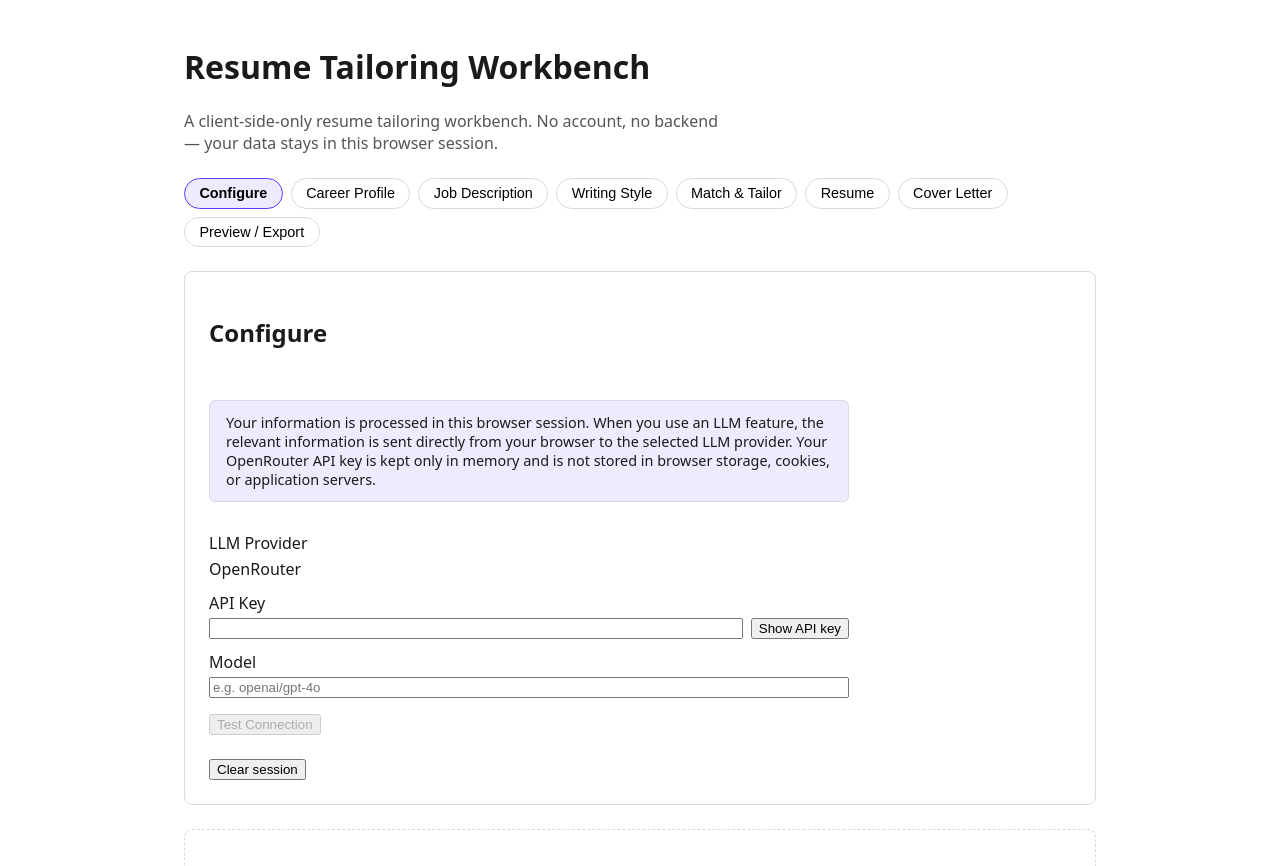
Test: Error handling and recovery (Stage 15) › Career Profile generation: an authentication failure shows Retry and Update API Key, and never leaks the API key
Click the button "Configure" at (233, 193), box [184, 178, 283, 209]
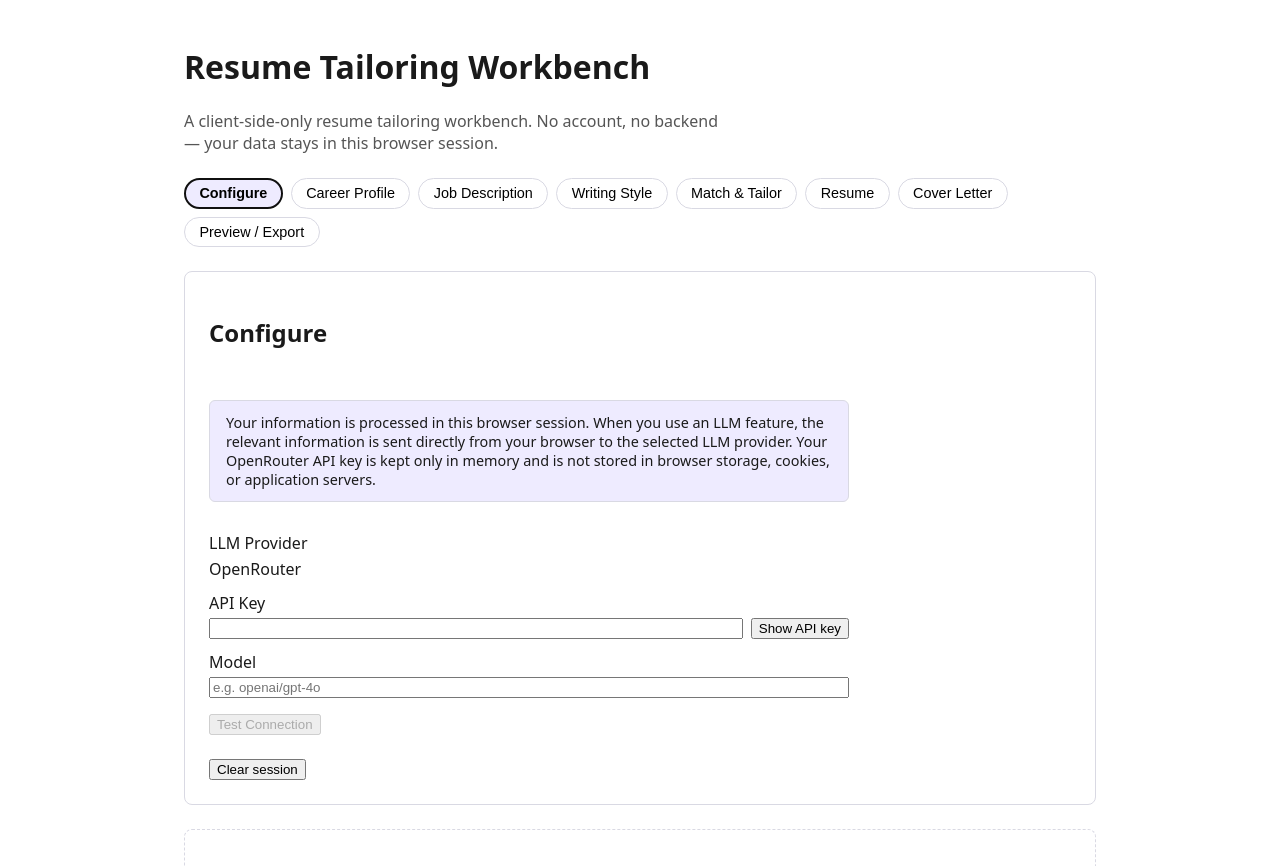
Type "sk-test-super-secret-key-value" into the password field labelled "API Key" at (476, 628), box [209, 618, 743, 639]
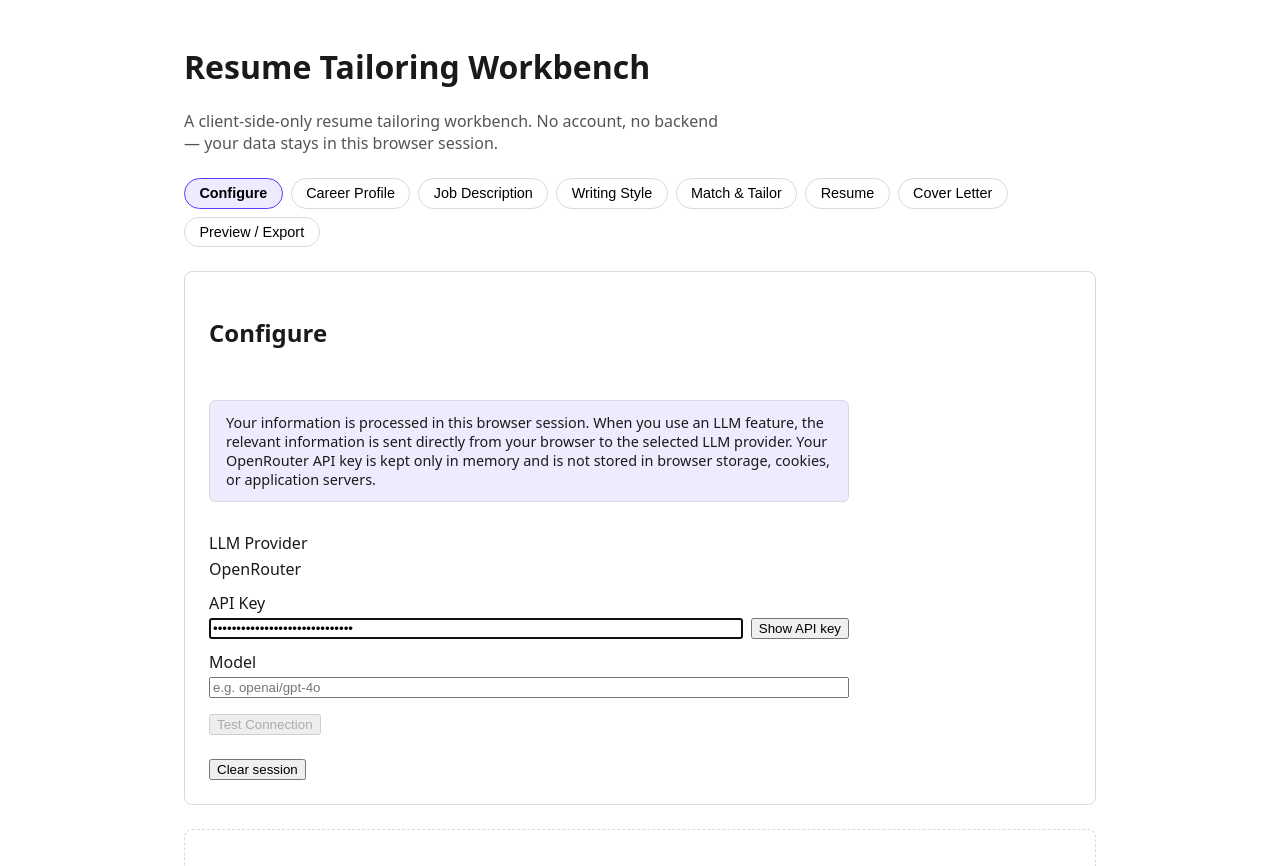
Type "openai/gpt-4o" into the field labelled "Model" at (529, 688), box [209, 677, 849, 698]
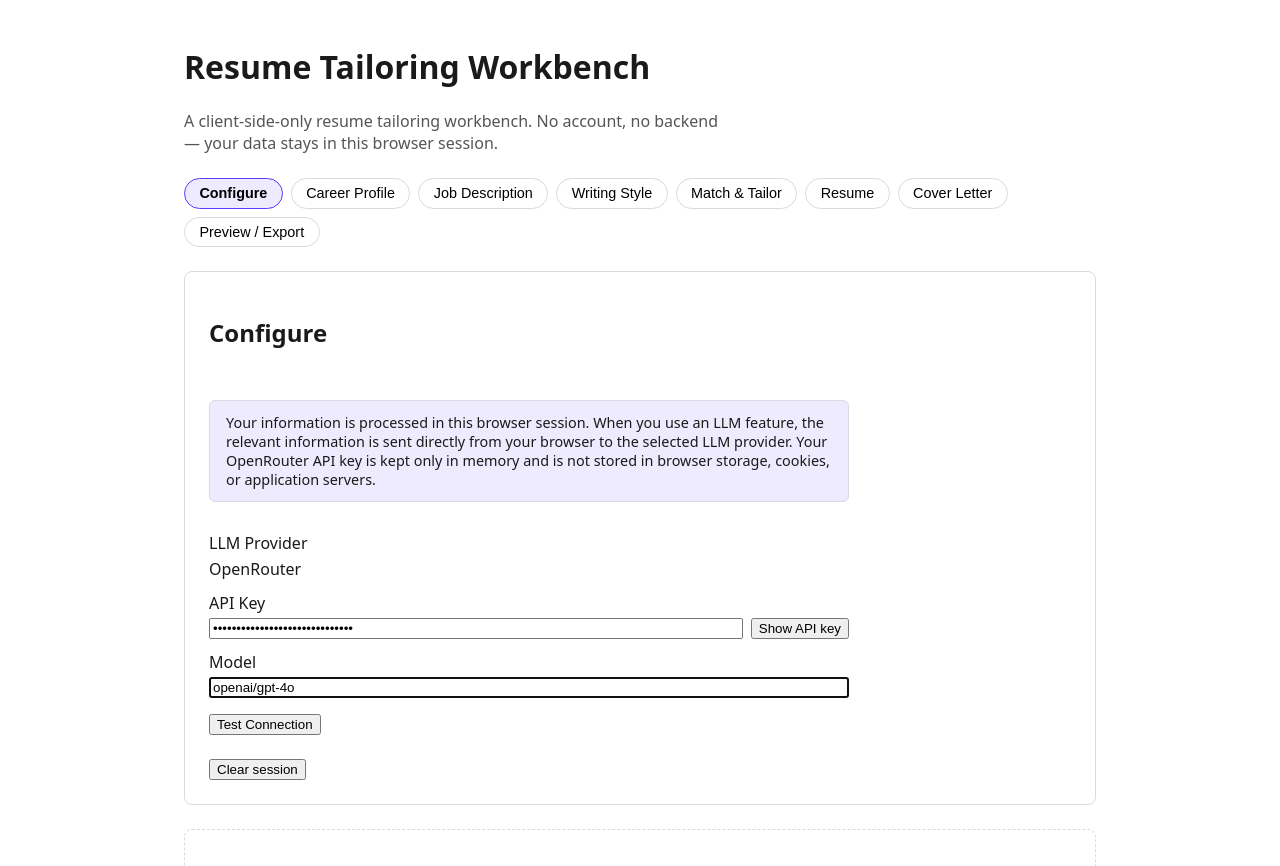
Click the button "Career Profile" at (350, 193), box [291, 178, 410, 209]
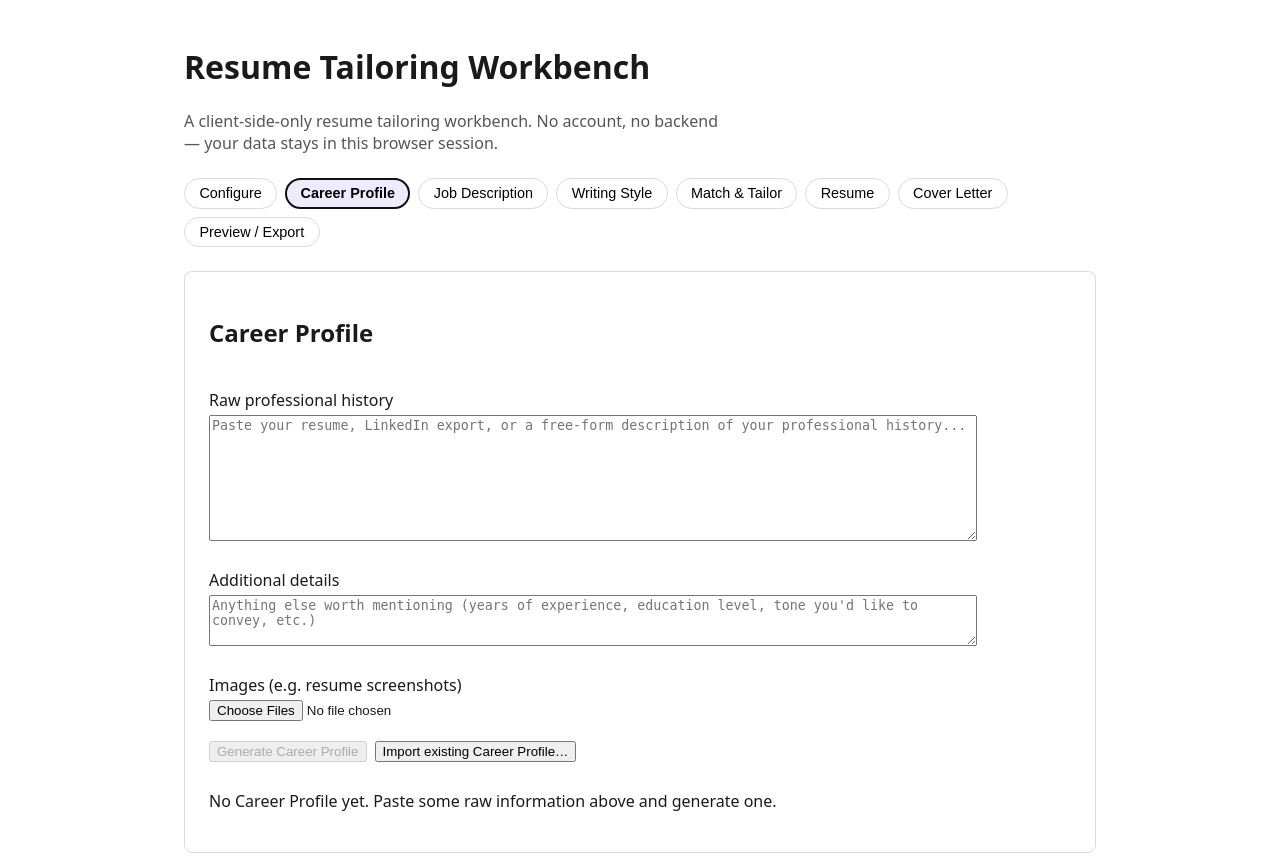
Type "Some history." into the text box labelled "Raw professional history" at (593, 478), box [209, 415, 977, 541]
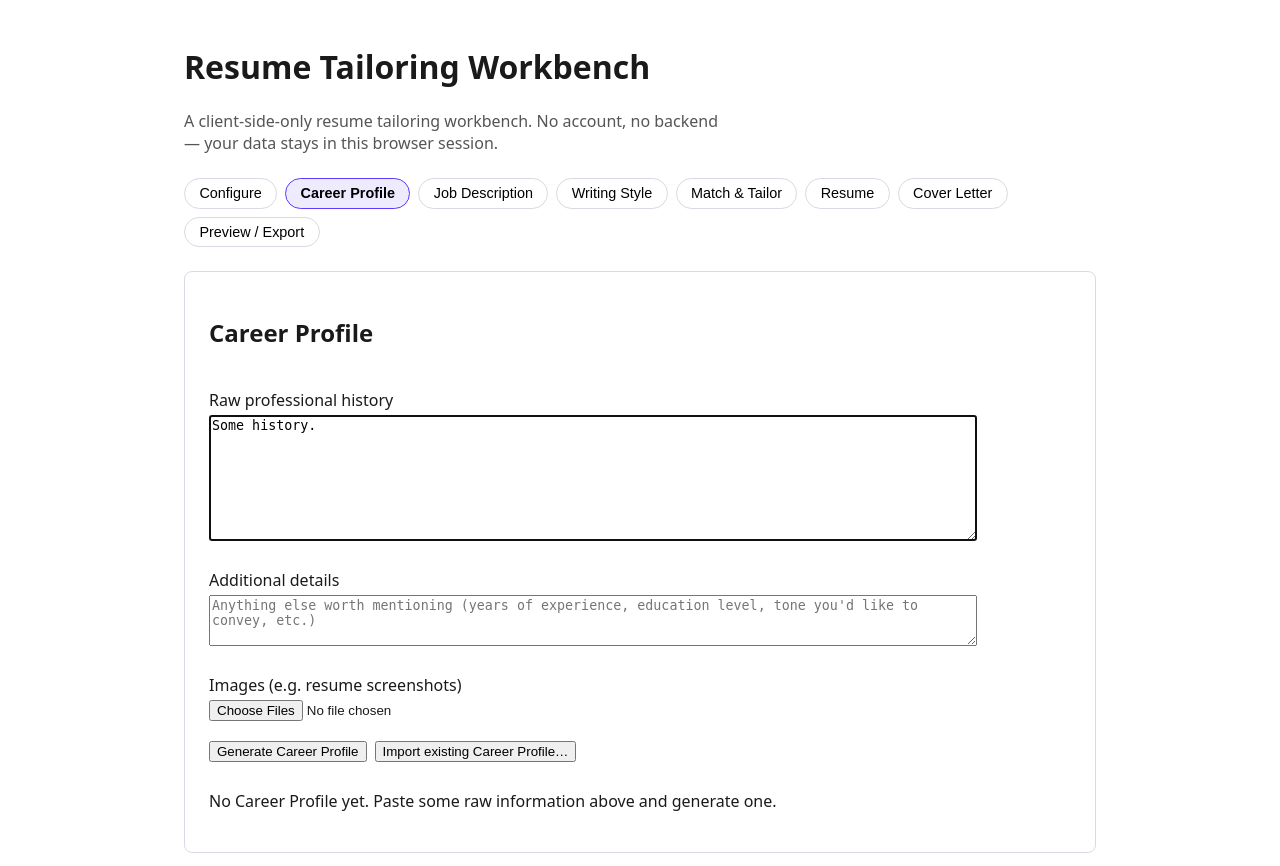
Click the button "Generate Career Profile" at (288, 752), box [209, 741, 366, 762]
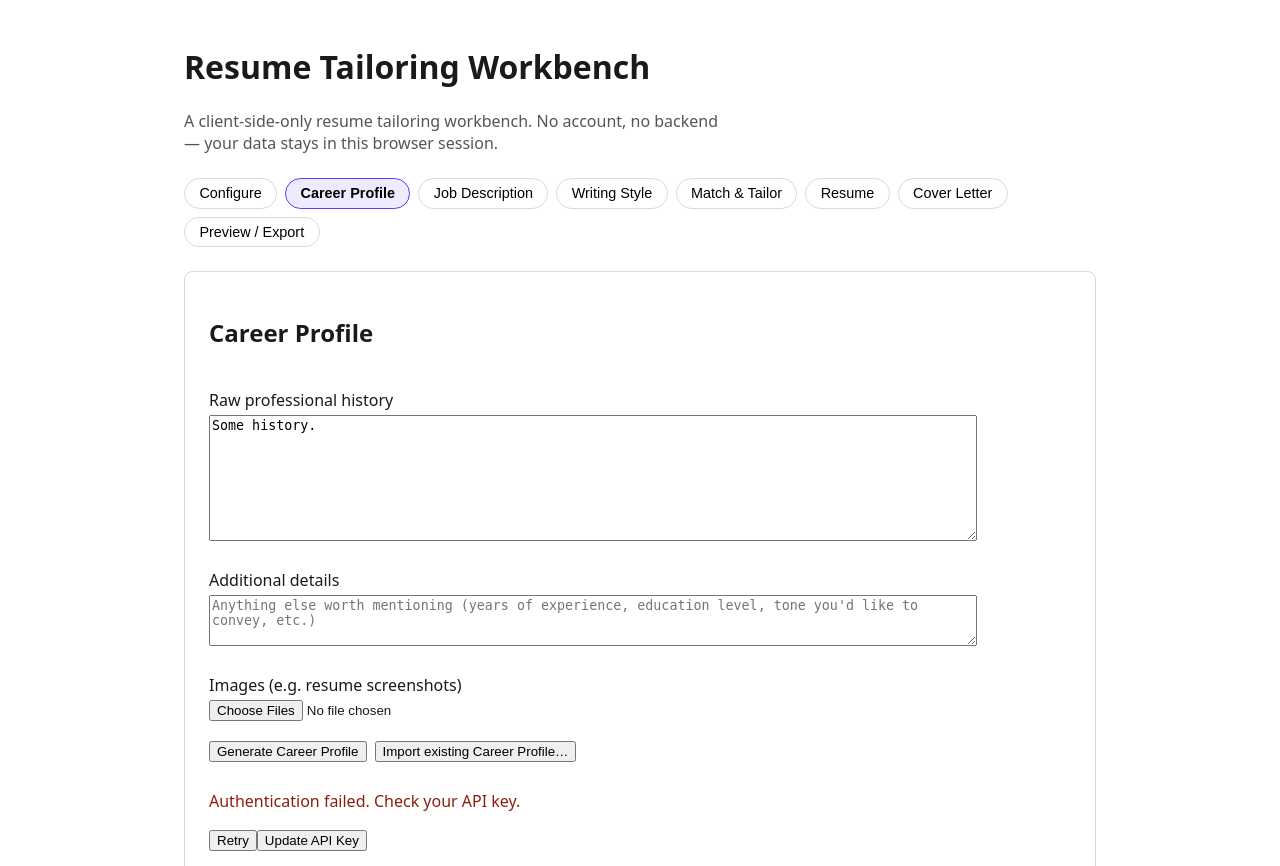
Expected: the message shows "Authentication failed", [209, 790, 520, 812]
Expected: the button "Retry" is shown, [209, 830, 257, 851]
Expected: the button "Update API Key" is shown, [257, 830, 367, 851]
